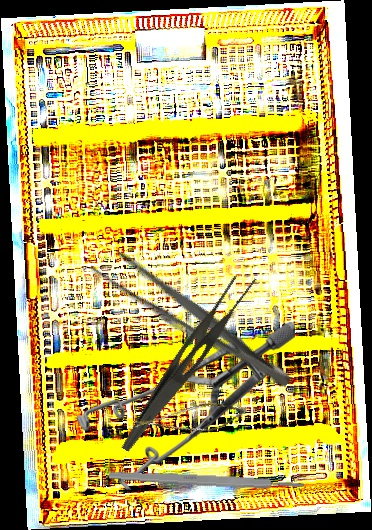Dressing Forceps: (86, 241, 299, 399), (120, 263, 260, 465)
Micro Scissor: (130, 387, 250, 454)
Scalpel Handle: (108, 469, 305, 492)
Speculum: (77, 322, 295, 490)
